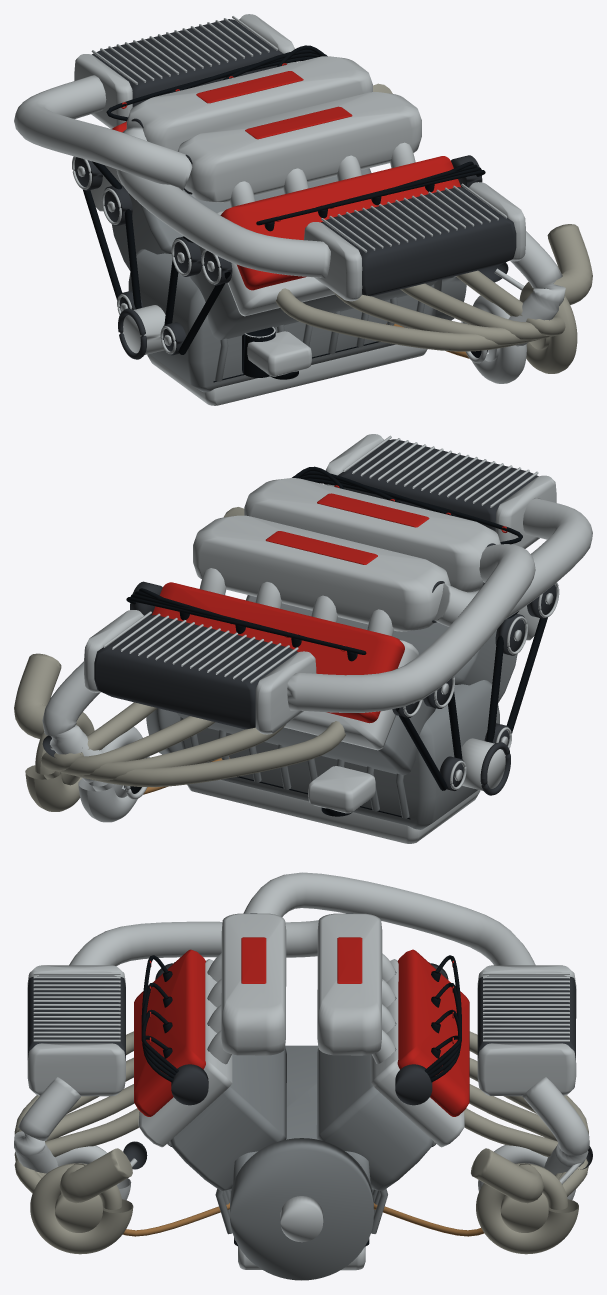
Rendered from engine-exterior.glb.
3 views of the same model, one above another, from view 1: azimuth 30°, elevation 25°; view 2: azimuth 150°, elevation 25°; view 3: azimuth 270°, elevation 25° (orthographic). The views are drawn at different scales.
Parts seen in each view (by area): view 1: f40_alloy_plenum_m1, f40_intercooler_core_m1, f40_alloy_plenum_1, f40_cooled_charge_pipe_1, f40_alloy_crankcase, f40_cooled_charge_pipe_m1, f40_wrinkle_red_cover_m1, f40_intercooler_core_1, f40_exhaust_header_m1_m170p0, f40_dry_sump_pan, f40_bank_casting_m1, f40_bank_casting_1 (+28 smaller); view 2: f40_alloy_plenum_1, f40_intercooler_core_1, f40_cooled_charge_pipe_1, f40_alloy_plenum_m1, f40_alloy_crankcase, f40_wrinkle_red_cover_1, f40_intercooler_core_m1, f40_cooled_charge_pipe_m1, f40_exhaust_header_1_m170p0, f40_dry_sump_pan, f40_bank_casting_1, f40_hot_charge_pipe_1 (+25 smaller); view 3: f40_flywheel_bellhousing, f40_cooled_charge_pipe_1, f40_bank_casting_m1, f40_bank_casting_1, f40_alloy_plenum_m1, f40_alloy_plenum_1, f40_wrinkle_red_cover_m1, f40_wrinkle_red_cover_1, f40_cooled_charge_pipe_m1, f40_intercooler_core_m1, f40_intercooler_core_1, f40_intercooler_endtank_m1_1 (+27 smaller).
Boxes of the visible parts, x1=… form: f40_alloy_plenum_m1: x1=178, y1=92, x2=421, y2=202; f40_intercooler_core_m1: x1=321, y1=187, x2=516, y2=296; f40_alloy_plenum_1: x1=126, y1=56, x2=372, y2=151; f40_cooled_charge_pipe_1: x1=14, y1=75, x2=192, y2=190; f40_alloy_crankcase: x1=128, y1=249, x2=434, y2=392; f40_cooled_charge_pipe_m1: x1=116, y1=127, x2=330, y2=278; f40_wrinkle_red_cover_m1: x1=220, y1=156, x2=460, y2=290; f40_intercooler_core_1: x1=92, y1=19, x2=285, y2=107; f40_exhaust_header_m1_m170p0: x1=275, y1=288, x2=530, y2=351; f40_dry_sump_pan: x1=147, y1=344, x2=427, y2=405; f40_bank_casting_m1: x1=190, y1=246, x2=437, y2=340; f40_bank_casting_1: x1=111, y1=168, x2=371, y2=271; f40_alloy_plenum_1: x1=193, y1=515, x2=450, y2=631; f40_intercooler_core_1: x1=94, y1=615, x2=298, y2=729; f40_cooled_charge_pipe_1: x1=287, y1=544, x2=535, y2=712; f40_alloy_plenum_m1: x1=244, y1=478, x2=500, y2=592; f40_alloy_crankcase: x1=180, y1=680, x2=499, y2=829; f40_wrinkle_red_cover_1: x1=152, y1=582, x2=404, y2=723; f40_intercooler_core_m1: x1=336, y1=439, x2=538, y2=531; f40_cooled_charge_pipe_m1: x1=434, y1=498, x2=592, y2=626; f40_exhaust_header_1_m170p0: x1=80, y1=721, x2=345, y2=787; f40_dry_sump_pan: x1=187, y1=779, x2=480, y2=843; f40_bank_casting_1: x1=176, y1=699, x2=435, y2=775; f40_hot_charge_pipe_1: x1=42, y1=661, x2=102, y2=782; f40_flywheel_bellhousing: x1=230, y1=1138, x2=373, y2=1280; f40_cooled_charge_pipe_1: x1=243, y1=872, x2=535, y2=965; f40_bank_casting_m1: x1=170, y1=1047, x2=286, y2=1191; f40_bank_casting_1: x1=316, y1=1048, x2=433, y2=1191; f40_alloy_plenum_m1: x1=221, y1=913, x2=286, y2=1055; f40_alloy_plenum_1: x1=317, y1=913, x2=382, y2=1055; f40_wrinkle_red_cover_m1: x1=134, y1=949, x2=205, y2=1116; f40_wrinkle_red_cover_1: x1=397, y1=949, x2=469, y2=1116; f40_cooled_charge_pipe_m1: x1=69, y1=920, x2=318, y2=966; f40_intercooler_core_m1: x1=27, y1=975, x2=125, y2=1060; f40_intercooler_core_1: x1=477, y1=975, x2=576, y2=1060; f40_intercooler_endtank_m1_1: x1=27, y1=1043, x2=125, y2=1096.
Size of the model in its own units: 0.8319 by 0.5491 by 1.09.
